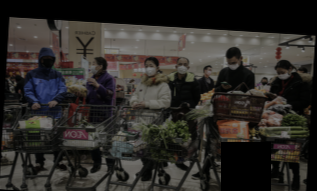with_mask: (274, 68, 291, 80), (143, 62, 156, 77), (225, 59, 240, 71), (176, 61, 188, 75), (42, 54, 54, 68), (89, 59, 99, 75), (204, 67, 213, 76), (260, 78, 267, 86), (9, 77, 15, 83), (130, 80, 135, 85), (6, 76, 10, 81)
